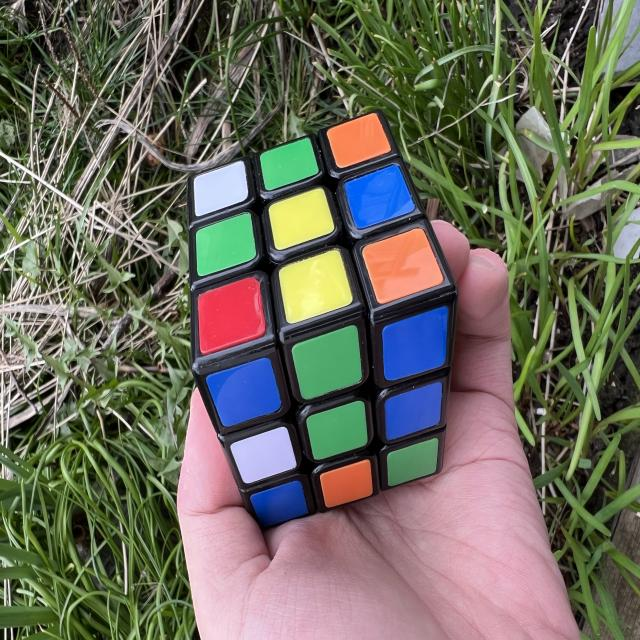blue: (370, 305, 464, 383), (204, 355, 286, 429), (339, 162, 417, 232), (373, 378, 455, 443), (248, 478, 311, 529)
center: (261, 186, 338, 252), (301, 399, 376, 462)
green: (285, 323, 374, 402), (184, 211, 264, 278), (301, 399, 376, 462), (254, 136, 322, 192), (379, 437, 447, 488)
orange: (359, 225, 445, 306), (324, 111, 392, 170), (316, 458, 380, 509)
red: (184, 274, 275, 356)
white: (229, 425, 300, 486), (184, 159, 256, 218)
yellow: (270, 247, 357, 325), (261, 186, 338, 252)
